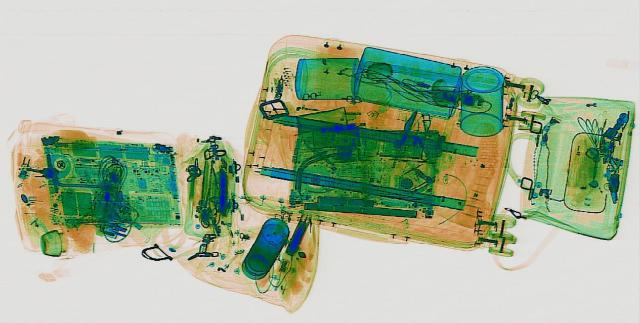Knife: (392, 108, 422, 143)
